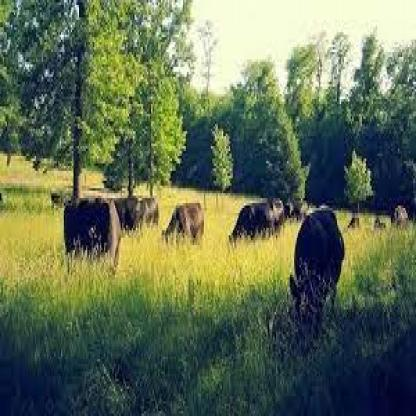cow: (289, 209, 346, 328), (62, 194, 124, 269), (232, 197, 284, 241), (113, 196, 159, 242), (162, 199, 207, 244), (392, 203, 411, 228), (345, 212, 364, 234), (372, 213, 389, 233)
